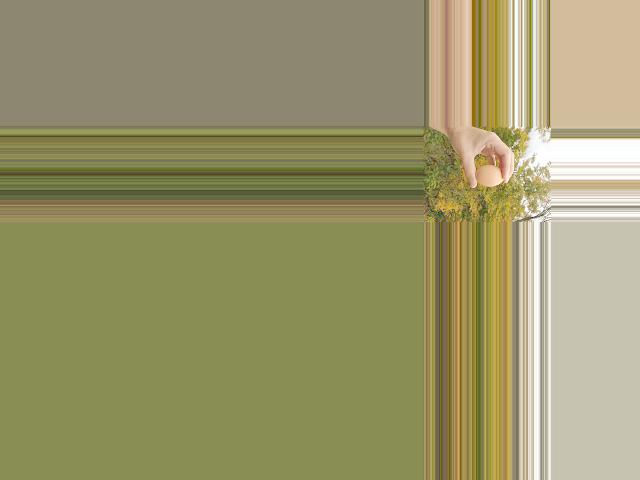egg: (475, 165, 504, 186)
